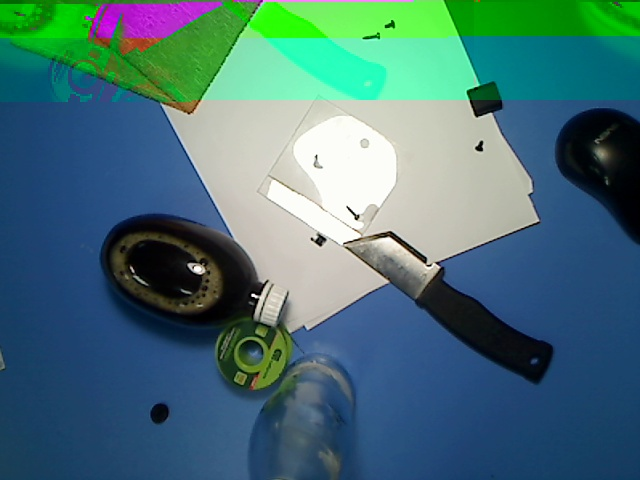plast_bottle: (91, 205, 292, 329)
